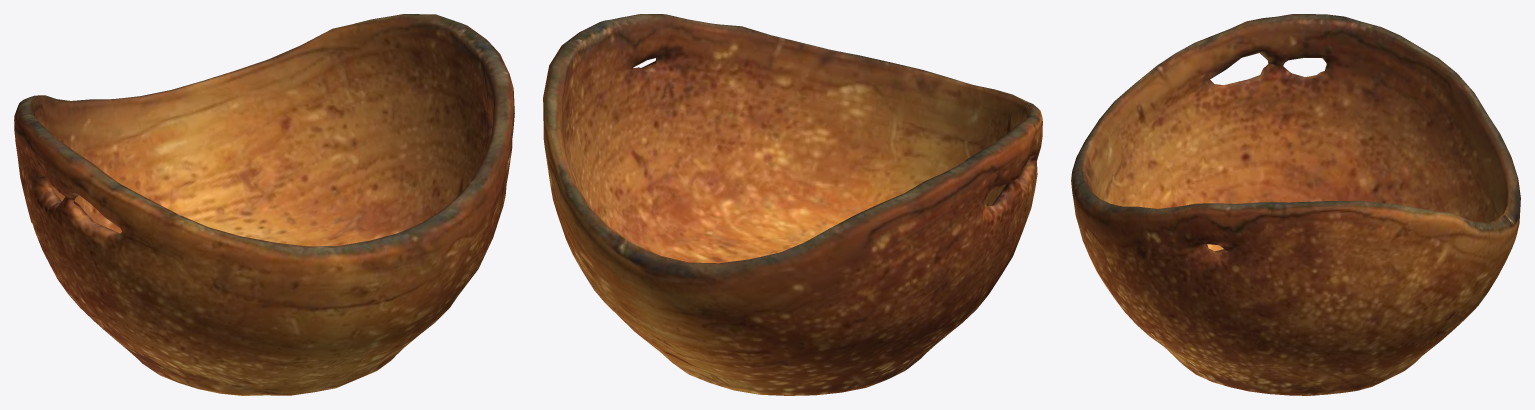
The model's file is wooden_bowl_02.glb.
3 views of the same model, side by side, from view 1: azimuth 30°, elevation 25°; view 2: azimuth 150°, elevation 25°; view 3: azimuth 270°, elevation 25° (orthographic). The views are drawn at different scales.
Parts seen in each view (by area): view 1: wooden_bowl_02; view 2: wooden_bowl_02; view 3: wooden_bowl_02.
Part boxes in pixels (x1=…): wooden_bowl_02: x1=14, y1=14, x2=514, y2=395; wooden_bowl_02: x1=543, y1=14, x2=1042, y2=395; wooden_bowl_02: x1=1071, y1=14, x2=1520, y2=395.
Bounding box in the file's own units: 0.1307 × 0.0731 × 0.1245.
Materials: 1 (1 with a texture image).
